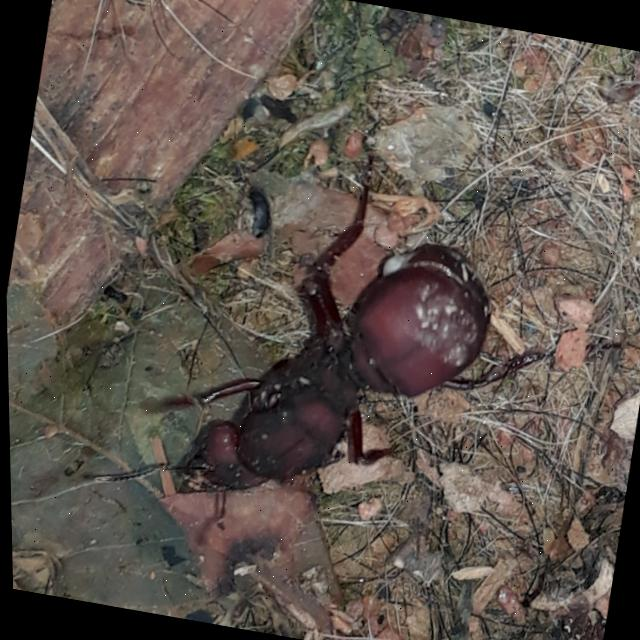Alive-Female-Dealate: (79, 95, 640, 596)
